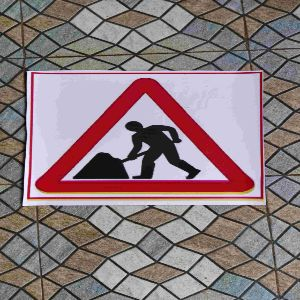men at work: (26, 69, 282, 206)
